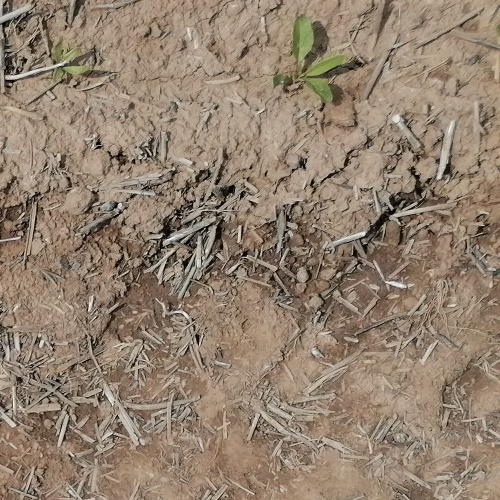beet: (272, 13, 346, 105), (48, 37, 96, 82)
